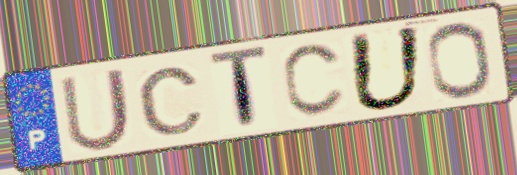C: (279, 40, 348, 120), (134, 65, 208, 138)
O: (424, 19, 496, 100)
T: (207, 43, 270, 135)
U: (346, 23, 427, 115), (57, 64, 135, 154)
